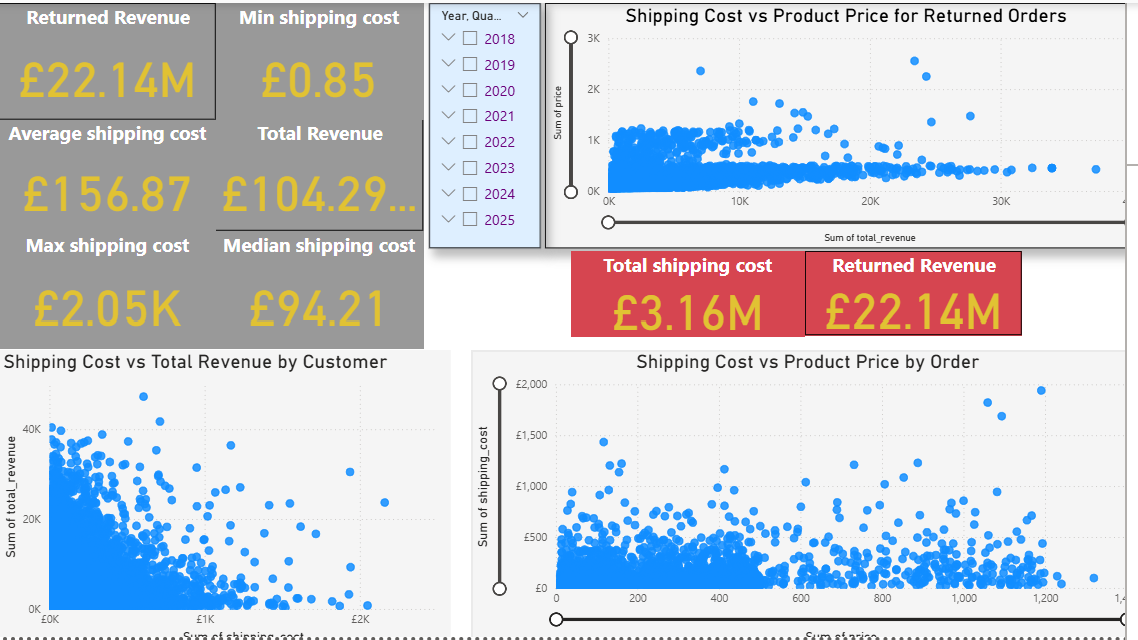

The dashboard page shown, as its layout file describes it:
{"tool":"powerbi","page":{"name":"Page 1","canvas":[1280,720],"ordinal":5},"visuals":[{"type":"scatterChart","title":"Shipping Cost vs Product Price for Returned Orders","fields":{"Y":["Sum(Sales.price)"],"X":["Sum(Sales.total_revenue)"],"Category":["Customers.customer_id"]},"box":[611.6,0,672.2,274.6],"z":0},{"type":"scatterChart","title":"Shipping Cost vs Product Price by Order","fields":{"Y":["Sum(Sales.shipping_cost)"],"X":["Sum(Sales.price)"],"Category":["Sales.order_id"]},"box":[528.3,386.3,753.6,333.3],"z":1000},{"type":"card","title":" Total shipping cost","fields":{"Values":["Sum(Sales.shipping_cost)"]},"box":[640,278.3,261.3,94.7],"z":2000},{"type":"card","title":"Total Revenue","fields":{"Values":["Sum(Sales.total_revenue)"]},"box":[242.4,130.7,232.9,125],"z":3000},{"type":"card","title":"Min shipping cost","fields":{"Values":["Min(Sales.shipping_cost)"]},"box":[242.4,0,232.9,130.7],"z":4000},{"type":"card","title":"Max shipping cost","fields":{"Values":["Max(Sales.shipping_cost)"]},"box":[0,255.6,242.4,130.7],"z":5000},{"type":"card","title":"Average shipping cost","fields":{"Values":["Avg(Sales.shipping_cost)"]},"box":[0,130.7,242.4,125],"z":6000},{"type":"card","title":"Median shipping cost","fields":{"Values":["Median(Sales.shipping_cost)"]},"box":[242.4,255.6,232.9,130.7],"z":7000},{"type":"card","title":"Returned Revenue","fields":{"Values":["Sum(Сustomers.customer_id)"]},"box":[0,0,242.4,130.7],"z":8000},{"type":"scatterChart","title":"Shipping Cost vs Total Revenue by Customer","fields":{"X":["Sum(Sales.shipping_cost)"],"Y":["Sum(Sales.total_revenue)"],"Category":["Customers.customer_id"]},"box":[0,386.3,505.6,333.3],"z":9000},{"type":"slicer","fields":{"Values":["Sales.order_date.Variation.Date Hierarchy.Year","Sales.order_date.Variation.Date Hierarchy.Quarter","Sales.order_date.Variation.Date Hierarchy.Month","Sales.order_date.Variation.Date Hierarchy.Day"]},"box":[480.9,0,125,274.6],"z":10000},{"type":"card","title":"Returned Revenue","fields":{"Values":["Sum(Сustomers.customer_id)"]},"box":[901.3,278.3,242.4,92.8],"z":11000}]}

Visuals, with their boxes in screenshot pixels (x1, y1, x2, y2), scaled from the page's 1280x720 canvas onto the 1138x640 screenshot:
"Shipping Cost vs Product Price for Returned Orders" scatterChart: Rect(544, 0, 1137, 244)
"Shipping Cost vs Product Price by Order" scatterChart: Rect(470, 343, 1137, 639)
" Total shipping cost" card: Rect(569, 247, 801, 332)
"Total Revenue" card: Rect(216, 116, 423, 227)
"Min shipping cost" card: Rect(216, 0, 423, 116)
"Max shipping cost" card: Rect(0, 227, 216, 343)
"Average shipping cost" card: Rect(0, 116, 216, 227)
"Median shipping cost" card: Rect(216, 227, 423, 343)
"Returned Revenue" card: Rect(0, 0, 216, 116)
"Shipping Cost vs Total Revenue by Customer" scatterChart: Rect(0, 343, 450, 639)
slicer - Sales.order_date.Variation.Date Hierarchy.Year x Sales.order_date.Variation.Date Hierarchy.Quarter: Rect(428, 0, 539, 244)
"Returned Revenue" card: Rect(801, 247, 1017, 330)
